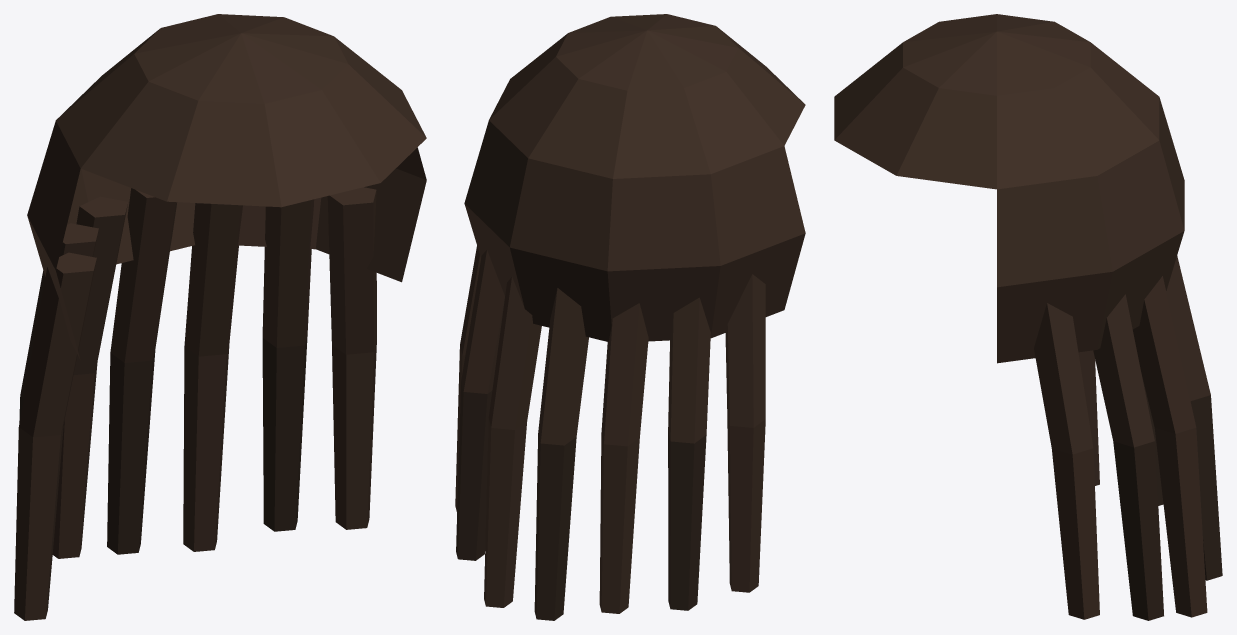
Rendered from tresses.glb.
3 renders of one model, left to right at view 1: azimuth 30°, elevation 25°; view 2: azimuth 150°, elevation 25°; view 3: azimuth 270°, elevation 25°, orthographic. The views are drawn at different scales.
Parts seen in each view (by area): view 1: tresses; view 2: tresses; view 3: tresses.
Boxes of the visible parts, x1,y1,x2,y2 form: tresses: (14, 14, 426, 620); tresses: (455, 14, 805, 620); tresses: (834, 14, 1222, 620).
Bounding box in the file's own units: 2.12 × 3.32 × 2.13.
1 material, 1 textured.
